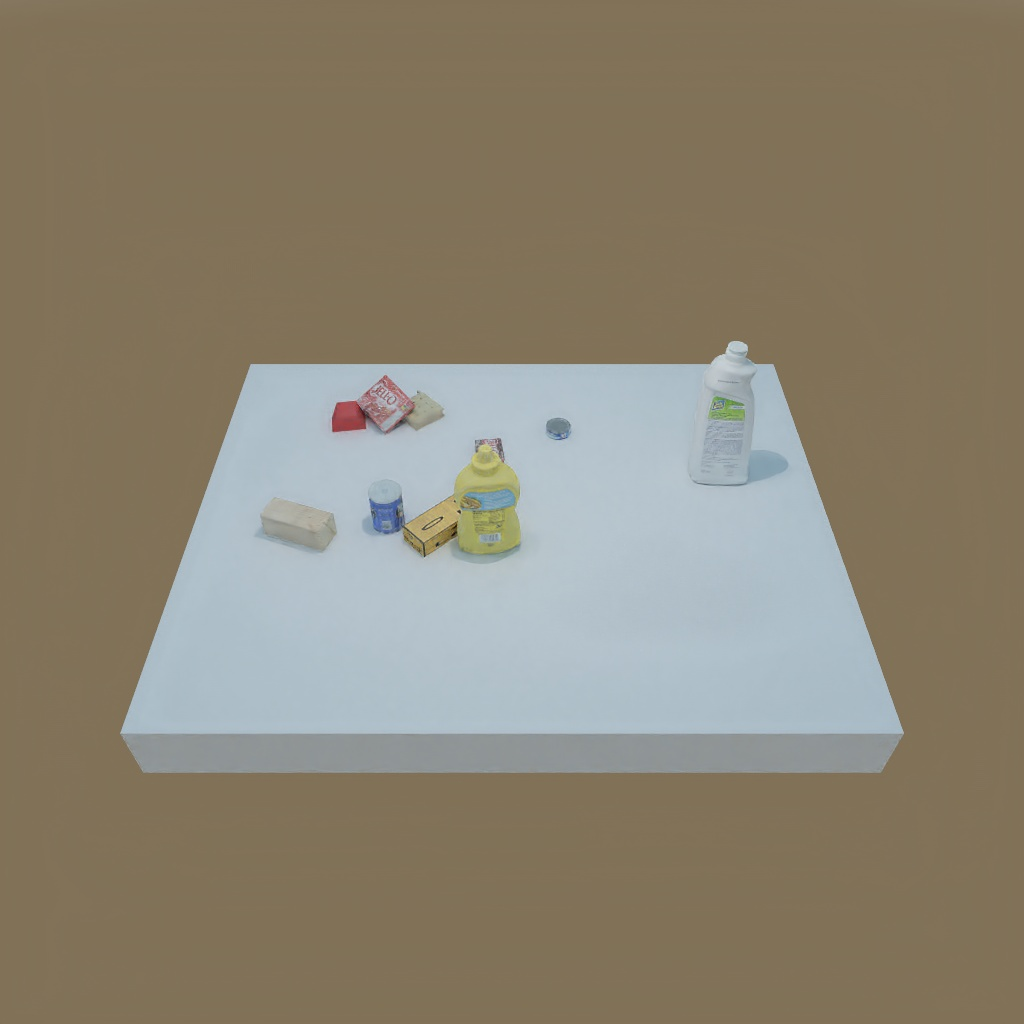gelatin_box: (355, 381, 407, 433)
jenga: (400, 490, 469, 563)
master_chef_can: (361, 478, 412, 534)
mustard_bottle: (453, 446, 524, 555)
nine_hole_peg_test: (401, 386, 442, 429)
pudding_box: (472, 435, 507, 465)
wood_block: (259, 497, 339, 549)
